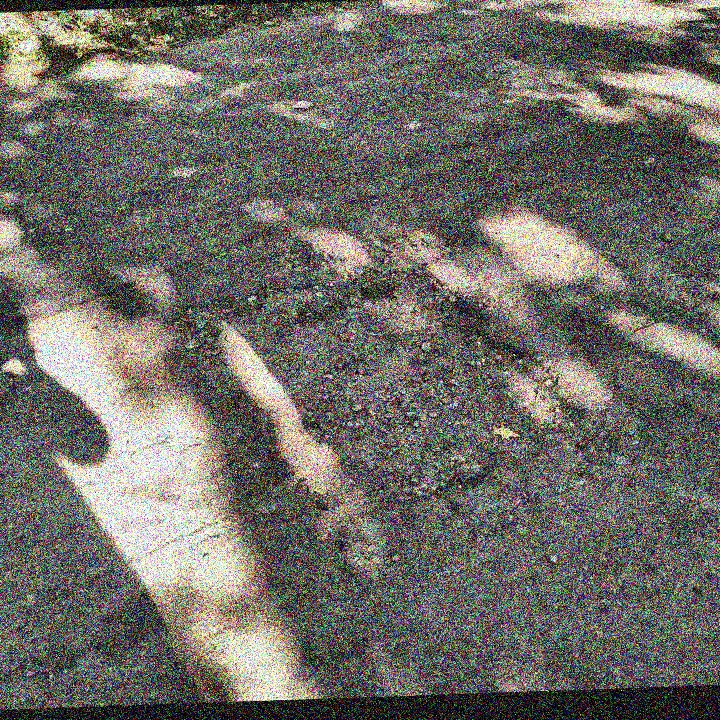pothole: (154, 256, 594, 528)
